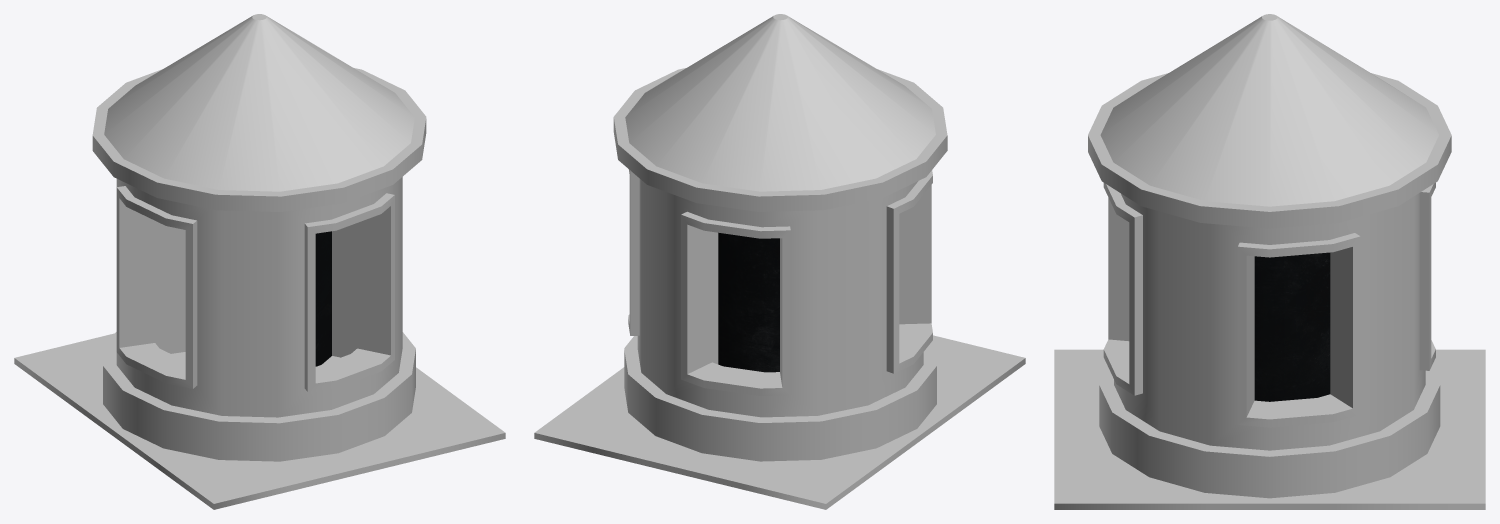
File: ModSet2_Tower.fbx
The picture shows the model from 3 angles, left to right: view 1: azimuth 30°, elevation 25°; view 2: azimuth 150°, elevation 25°; view 3: azimuth 270°, elevation 25°; orthographic projection. The views are drawn at different scales.
Parts seen in each view (by area): view 1: Tower; view 2: Tower; view 3: Tower.
Part boxes in pixels (x1,y1,x2,y2): Tower: (14, 14, 505, 509); Tower: (534, 14, 1025, 509); Tower: (1054, 14, 1485, 509).
Bounding box in the file's own units: 367 × 461 × 434.
